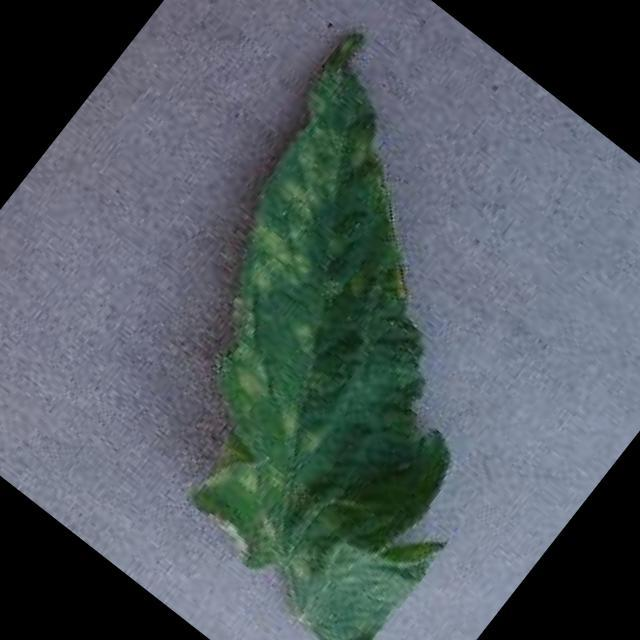Tomato mold leaf: (37, 20, 640, 640)
